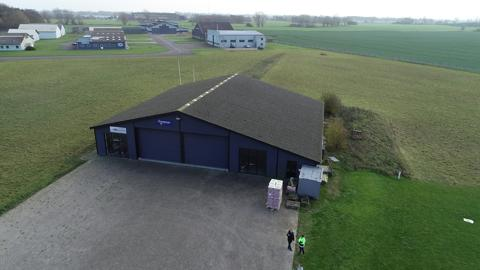RockwoolPallet: (266, 178, 283, 210)
